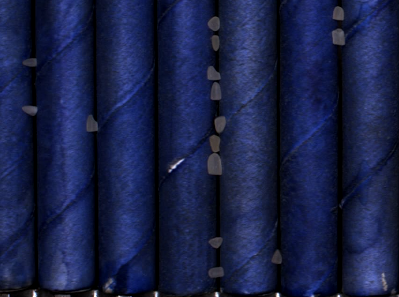broken_grain: (206, 152, 224, 177), (332, 26, 347, 49), (85, 112, 99, 135), (209, 81, 223, 104), (207, 13, 223, 33), (205, 64, 222, 82), (20, 103, 39, 118), (214, 114, 227, 135), (332, 4, 346, 22), (208, 266, 226, 280), (21, 56, 38, 70), (210, 33, 220, 52), (272, 247, 282, 266), (209, 237, 224, 249)
yellow_grain: (209, 134, 221, 155)
